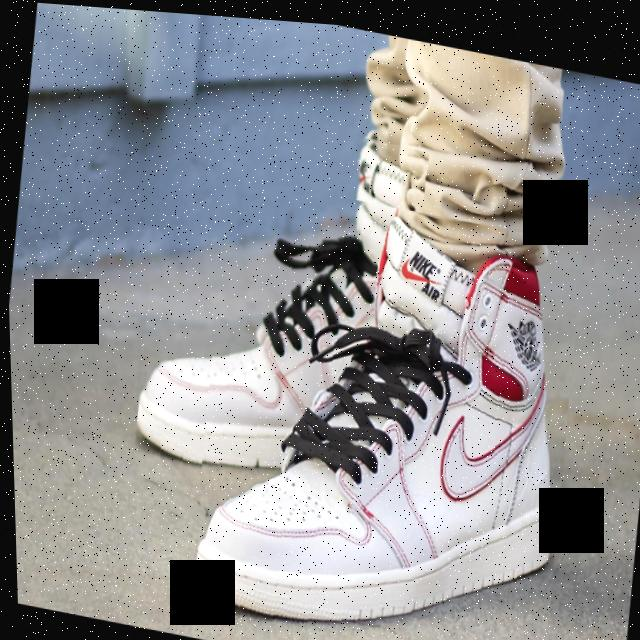shoe: (173, 168, 592, 640), (119, 84, 438, 523)
